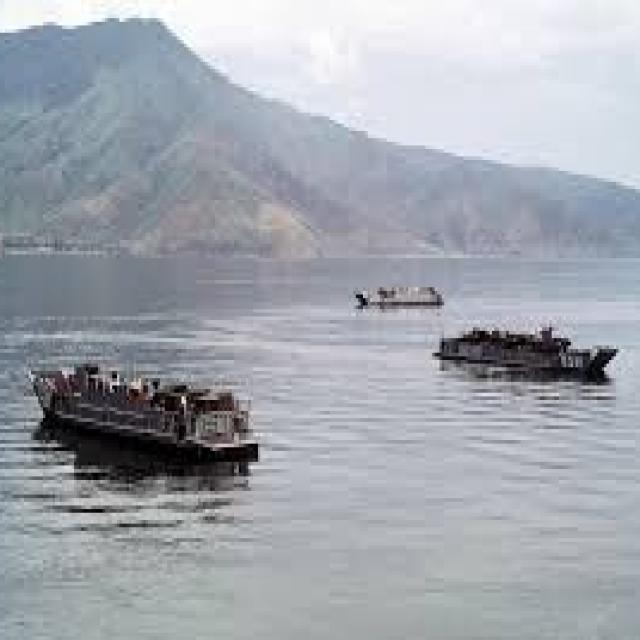fishing boat: (1, 332, 264, 477), (446, 314, 614, 386), (350, 237, 448, 310)
